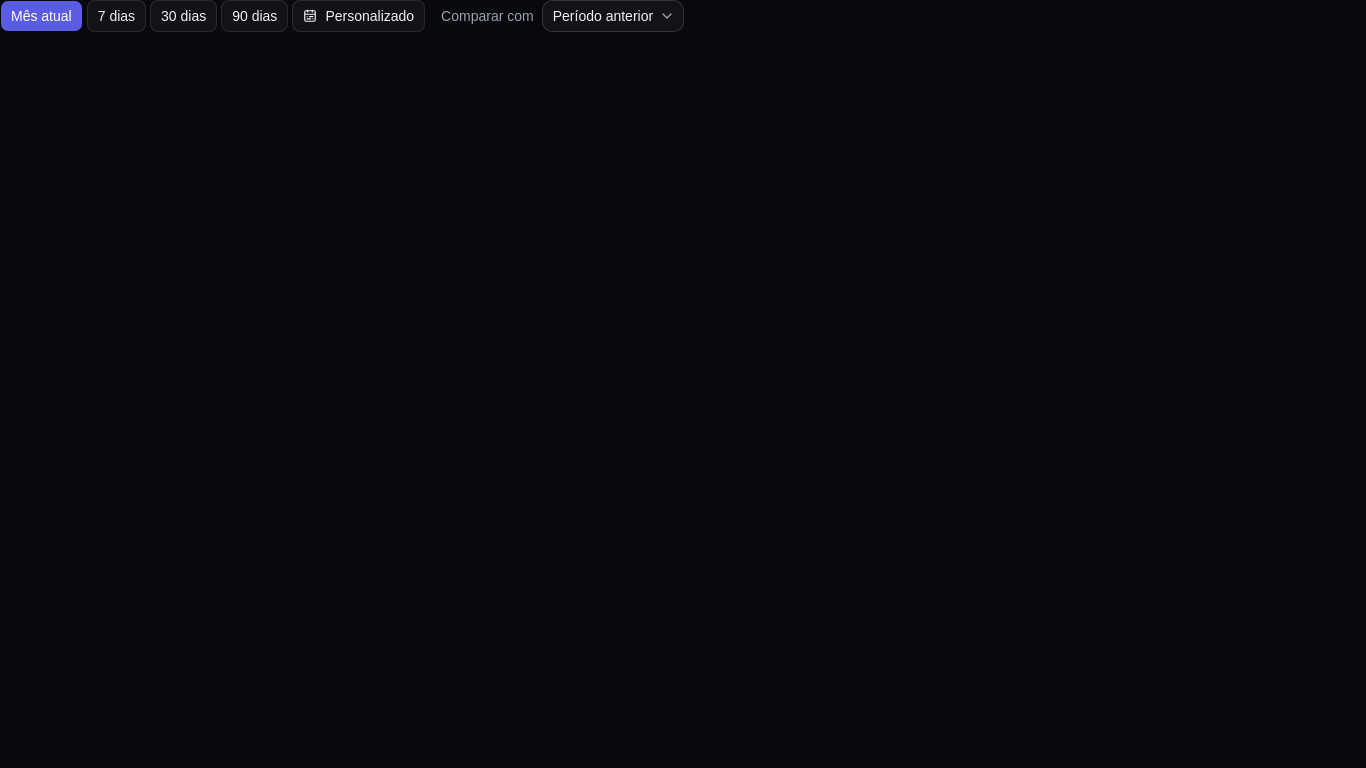
Test case: PeriodoAdsSeletor › range inválido (ordem) mostra o motivo e não envia
The image size is (1366, 768).
Click the button "Personalizado" at (359, 16), box [292,0,425,32]
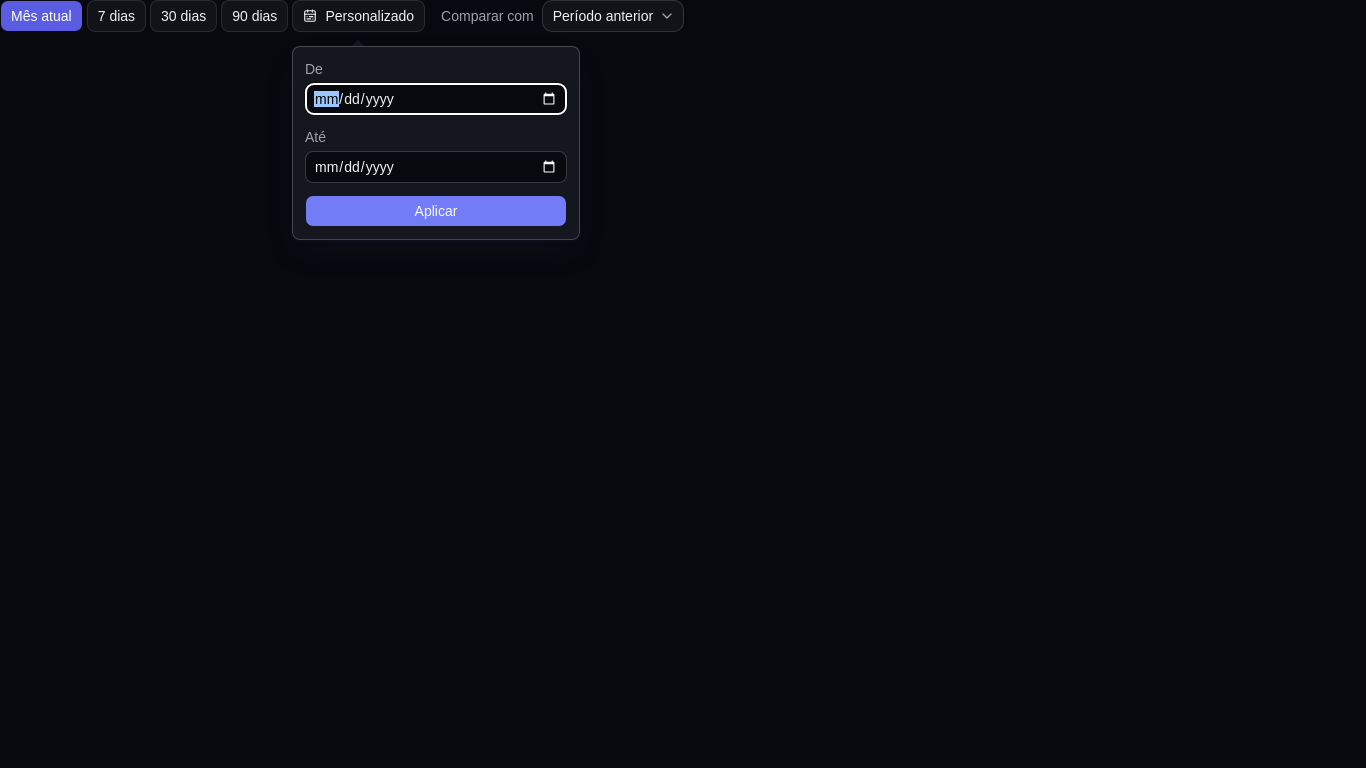
Type "2026-10-20" into the date field labelled "De" at (436, 99), box [305,83,567,115]
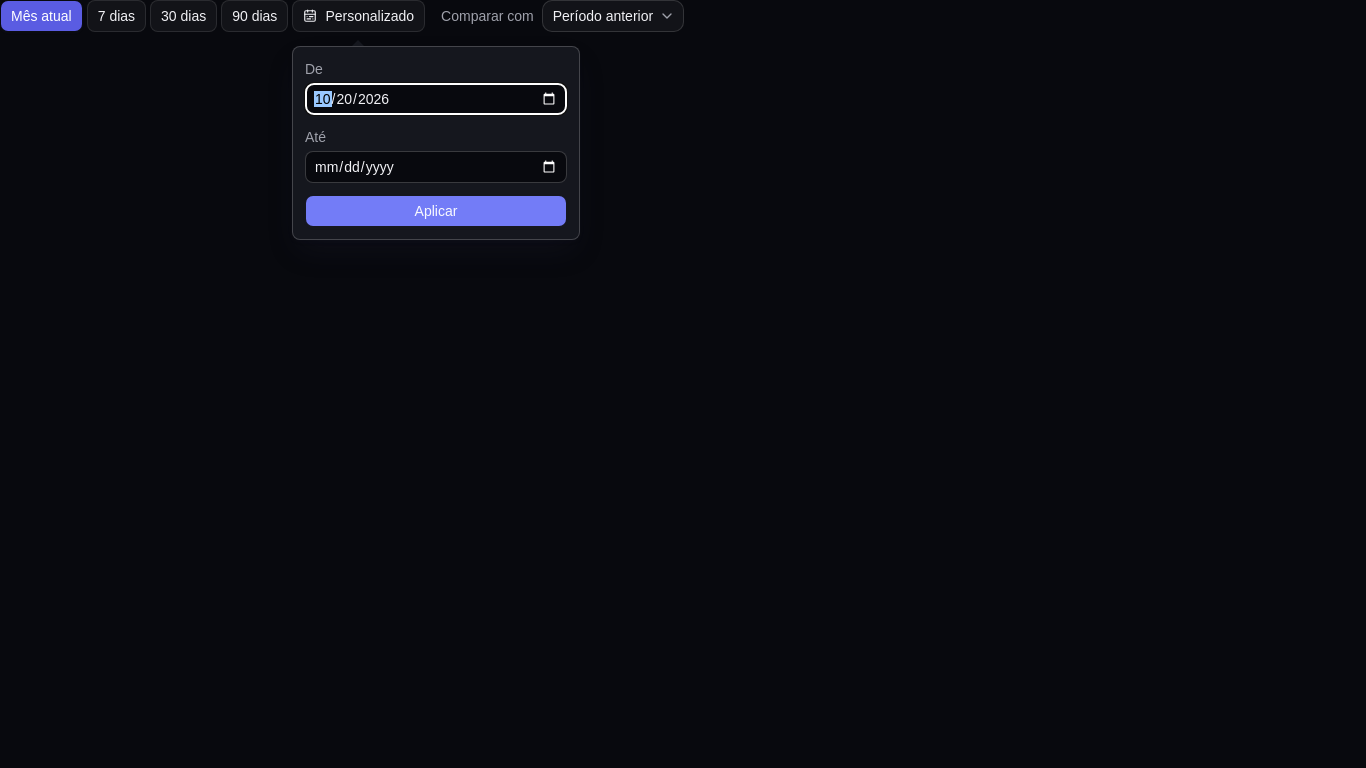
Type "2026-10-10" into the date field labelled "Até" at (436, 167), box [305,151,567,183]
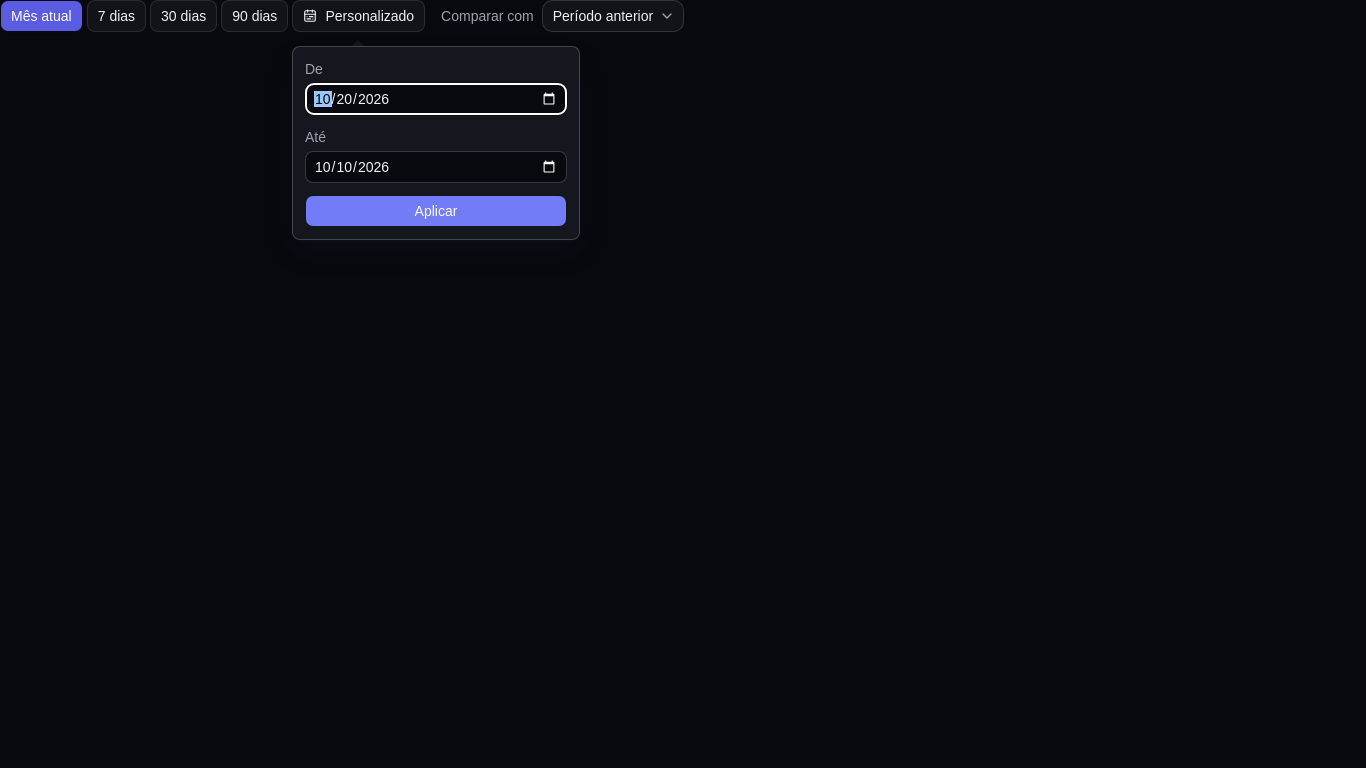
Click the button "Aplicar" at (436, 211), box [305,195,567,227]
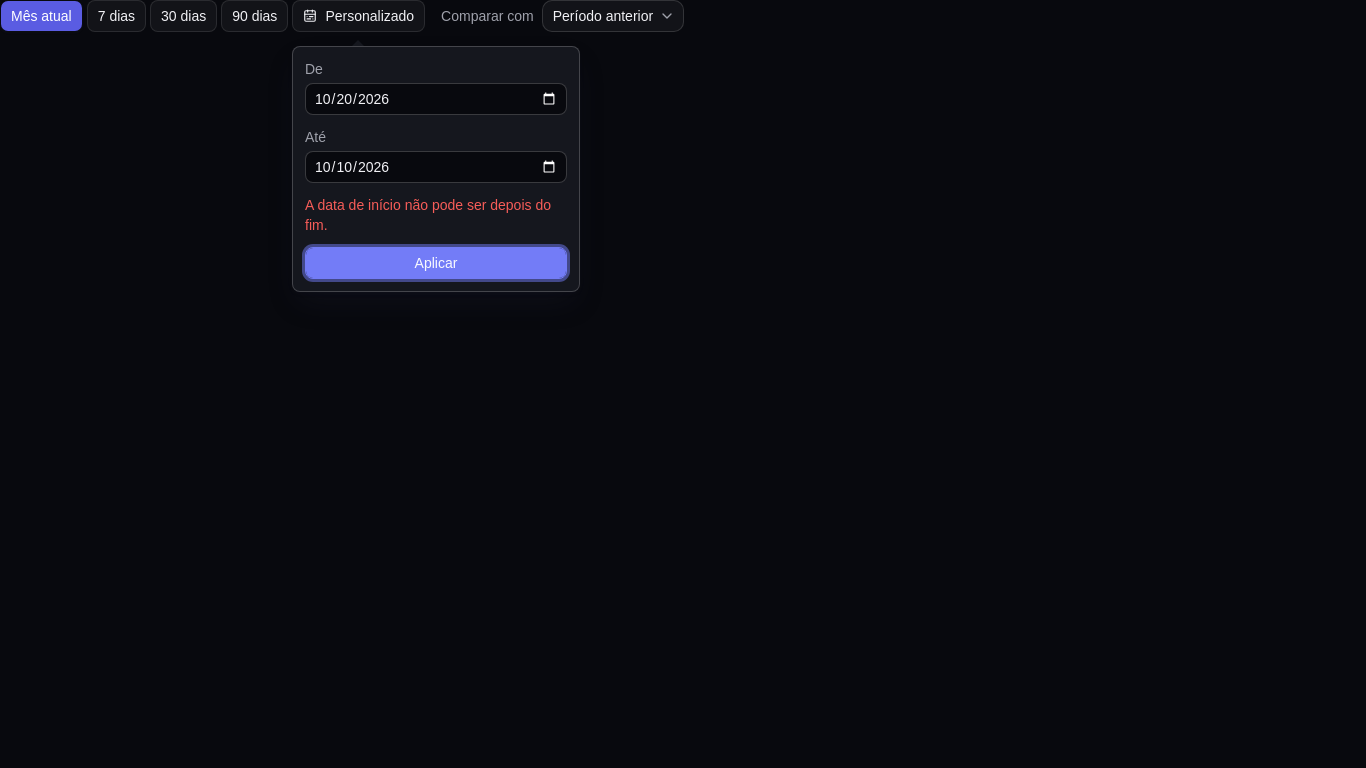
Expected: the message reads "A data de início não pode ser depois do fim.", [305,197,551,233]
